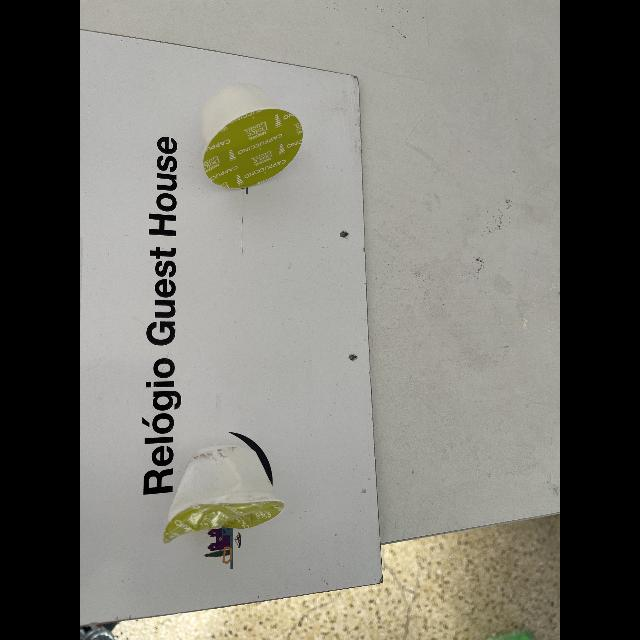damaged_capsule: (157, 443, 301, 547)
intact_capsule: (194, 80, 312, 196)
